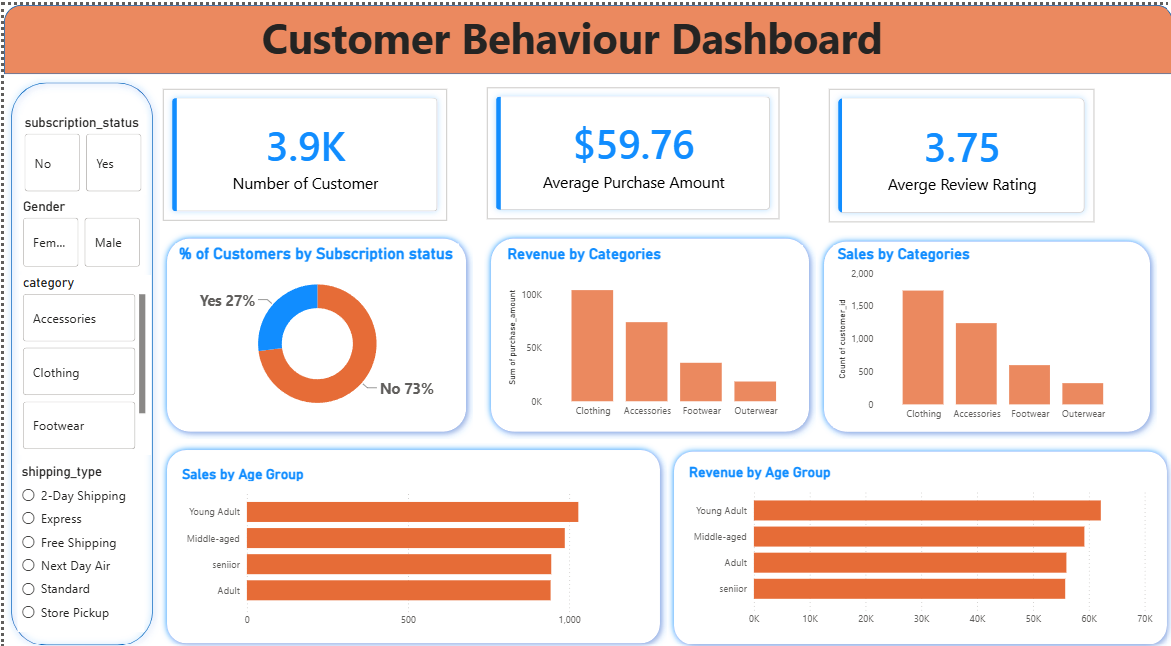

What the dashboard file says about the page in this screenshot:
{"tool":"powerbi","page":{"name":"Page 1","canvas":[1500,830],"ordinal":0},"visuals":[{"type":"group","id":"g1","title":"Group 1","box":[0,0,1500,294.9],"z":0},{"type":"cardVisual","fields":{"Data":["public customer.Number of Customer"]},"box":[186.3,90.2,398,203.9],"z":0,"group":"g1"},{"type":"textbox","box":[0,0,1250.8,85.7],"z":1000},{"type":"cardVisual","fields":{"Data":["public customer.Average Purchase Amount"]},"box":[602,88.2,409.8,203.9],"z":1000,"group":"g1"},{"type":"cardVisual","fields":{"Data":["public customer.Averge Review Rating"]},"box":[1040.7,89.8,374.6,205.1],"z":2000,"group":"g1"},{"type":"shape","box":[200,290,401.4,265.7],"z":2000},{"type":"shape","box":[0,0,1500,88.8],"z":3000,"group":"g1"},{"type":"donutChart","title":"% of Customers by Subscription status","fields":{"Category":["public customer.subscription_status"],"Y":["Count(public customer.customer_id)"]},"box":[220,305.7,364.3,232.9],"z":3000},{"type":"shape","box":[615.7,290,425.7,265.7],"z":4000},{"type":"shape","box":[1042,294,436,262],"z":5000},{"type":"clusteredColumnChart","title":"Revenue by Categories","fields":{"Y":["Sum(public customer.purchase_amount)"],"Category":["public customer.category"]},"box":[640,308.6,384.3,230],"z":6000},{"type":"clusteredColumnChart","title":"Sales by Categories","fields":{"Y":["CountNonNull(public customer.customer_id)"],"Category":["public customer.category"]},"box":[1064,308,380,234],"z":7000},{"type":"shape","box":[0,89.8,200,740.7],"z":8000},{"type":"advancedSlicerVisual","fields":{"Values":["public customer.subscription_status"]},"box":[20.3,140.7,161,103.4],"z":9000},{"type":"advancedSlicerVisual","fields":{"Values":["public customer.gender"]},"box":[18.6,247.5,161,93.2],"z":10000},{"type":"advancedSlicerVisual","fields":{"Values":["public customer.category"]},"box":[18.6,345.8,167.8,230.5],"z":11000},{"type":"listSlicer","fields":{"Values":["public customer.shipping_type"]},"box":[16.9,588.1,162.7,215.3],"z":12000},{"type":"shape","box":[200,562,650,266],"z":14000},{"type":"shape","box":[850,564,650,266],"z":14001},{"type":"clusteredBarChart","title":"Sales by Age Group","fields":{"Y":["CountNonNull(public customer.customer_id)"],"Category":["public customer.age_group"]},"box":[224,590,604,216],"z":14002},{"type":"clusteredBarChart","title":"Revenue by Age Group","fields":{"Y":["Sum(public customer.purchase_amount)"],"Category":["public customer.age_group"]},"box":[874,588,604,216],"z":14004}]}

Visuals, with their boxes in screenshot pixels (x1, y1, x2, y2), scaled from the page's 1500x830 canvas onto the 1171x646 screenshot:
"Group 1" group: 0 0 1170 230
cardVisual - public customer.Number of Customer: 145 70 456 229
textbox: 0 0 976 67
cardVisual - public customer.Average Purchase Amount: 470 69 790 227
cardVisual - public customer.Averge Review Rating: 812 70 1105 230
shape: 156 226 469 433
shape: 0 0 1170 69
"% of Customers by Subscription status" donutChart: 172 238 456 419
shape: 481 226 813 433
shape: 813 229 1154 433
"Revenue by Categories" clusteredColumnChart: 500 240 800 419
"Sales by Categories" clusteredColumnChart: 831 240 1127 422
shape: 0 70 156 645
advancedSlicerVisual - public customer.subscription_status: 16 110 142 190
advancedSlicerVisual - public customer.gender: 15 193 140 265
advancedSlicerVisual - public customer.category: 15 269 146 449
listSlicer - public customer.shipping_type: 13 458 140 625
shape: 156 437 664 644
shape: 664 439 1170 645
"Sales by Age Group" clusteredBarChart: 175 459 646 627
"Revenue by Age Group" clusteredBarChart: 682 458 1154 626
